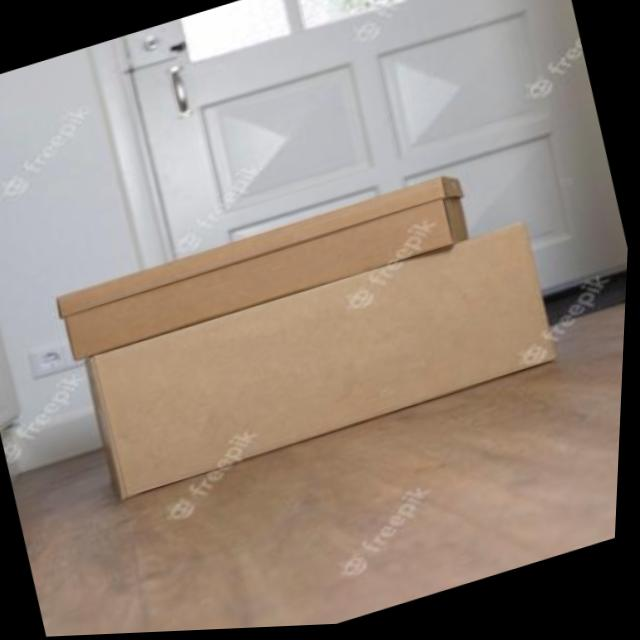box: (57, 213, 602, 528), (43, 147, 508, 376)
